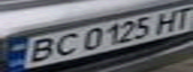0: (78, 25, 106, 52)
1: (103, 20, 124, 47)
2: (118, 17, 139, 44)
5: (133, 14, 160, 39)
B: (18, 35, 63, 65)
C: (45, 30, 84, 57)
H: (148, 8, 187, 34)
T: (166, 5, 193, 30)
